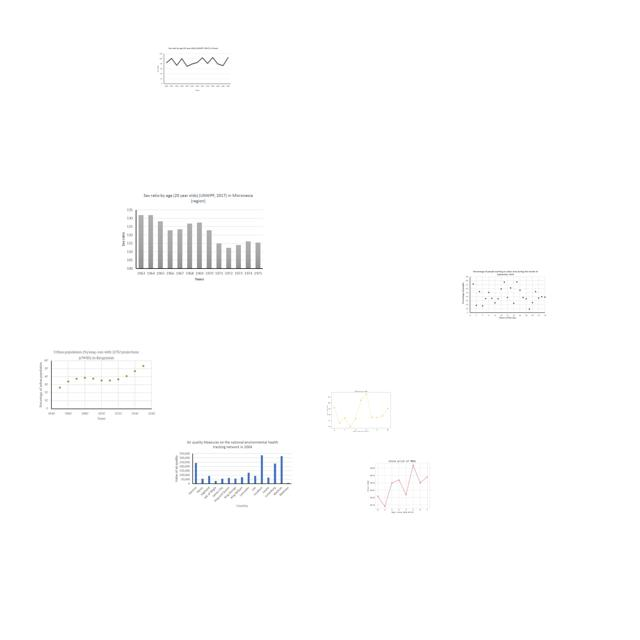Graph: (117, 192, 265, 284), (37, 348, 156, 421), (172, 439, 295, 509), (362, 456, 441, 515), (461, 269, 547, 320), (322, 384, 398, 436), (155, 46, 235, 93)
